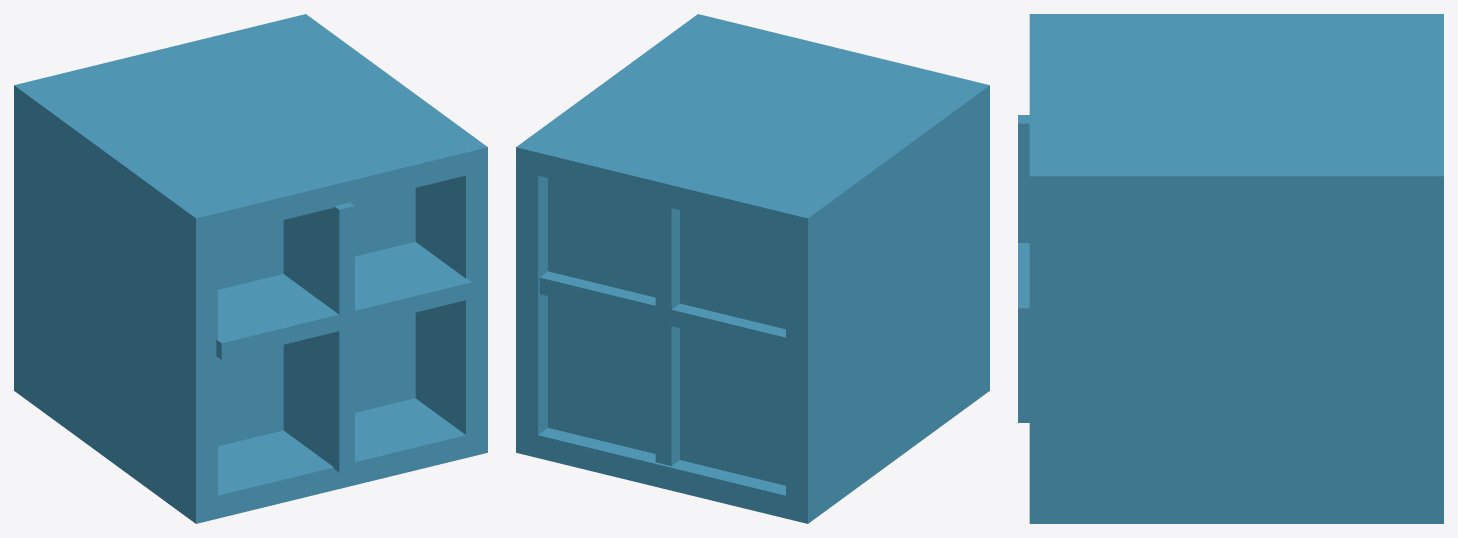
The model's file is FacadeKit_EntryDoor_LOD0.glb.
3 views of the same model, side by side, from view 1: azimuth 30°, elevation 25°; view 2: azimuth 150°, elevation 25°; view 3: azimuth 270°, elevation 25° (orthographic). The views are drawn at different scales.
Visible parts, largest first — view 1: FacadeKit_EntryDoor_LOD0; view 2: FacadeKit_EntryDoor_LOD0; view 3: FacadeKit_EntryDoor_LOD0.
Boxes of the visible parts, <box> form: FacadeKit_EntryDoor_LOD0: <box>14,14,487,523</box>; FacadeKit_EntryDoor_LOD0: <box>516,14,989,523</box>; FacadeKit_EntryDoor_LOD0: <box>1018,14,1443,523</box>.
Size of the model in its own units: 1 by 1 by 1.11.
